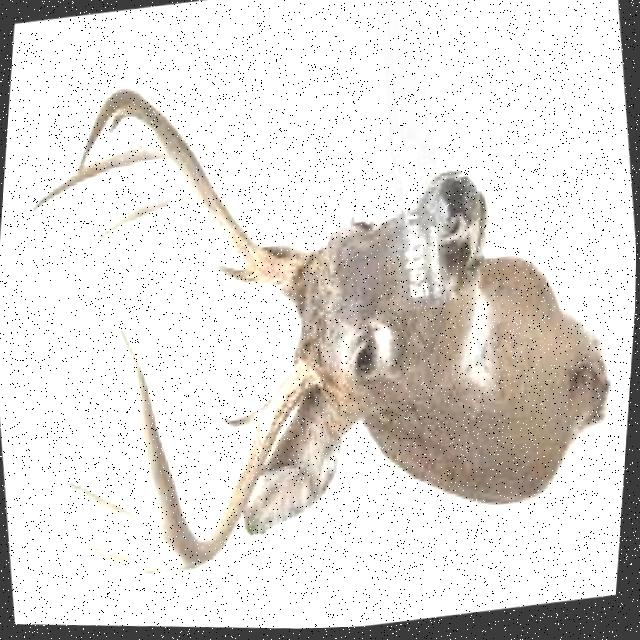E1: (106, 106, 142, 137)
L-F: (78, 86, 317, 304)
L-G1: (214, 263, 263, 287)
L-G2: (87, 187, 194, 248)
L-G3: (27, 140, 167, 215)
R-F: (115, 321, 324, 571)
R-G1: (223, 410, 261, 429)
R-G3: (30, 511, 187, 576)
R-G4: (60, 474, 166, 542)
